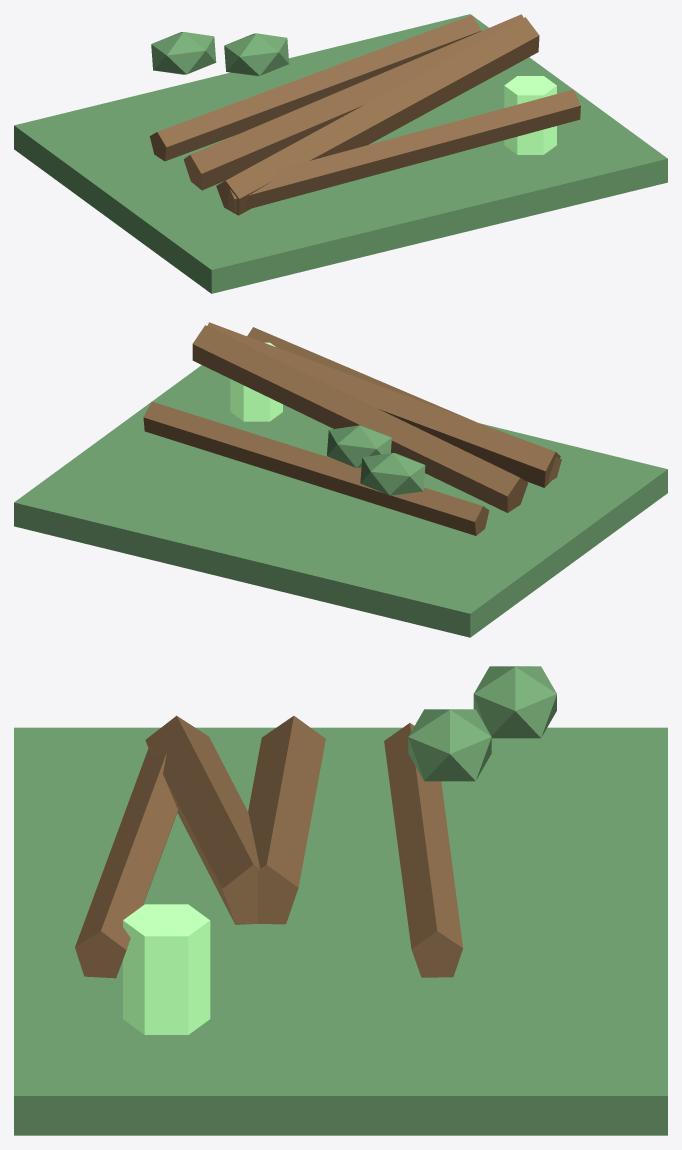
File: harthmere_orchard_softwood.lod1.glb
3 renders of one model, top to bottom at view 1: azimuth 30°, elevation 25°; view 2: azimuth 150°, elevation 25°; view 3: azimuth 270°, elevation 25°, orthographic. The views are drawn at different scales.
Bounding box in the file's own units: 2.4 × 0.6512 × 1.8.
